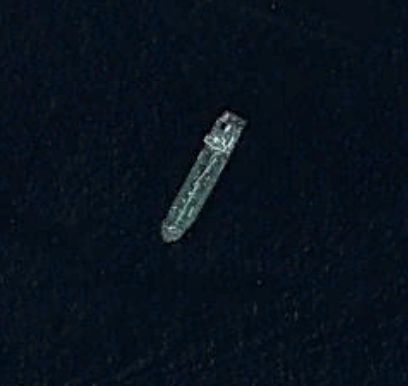boat: (161, 109, 249, 245)
